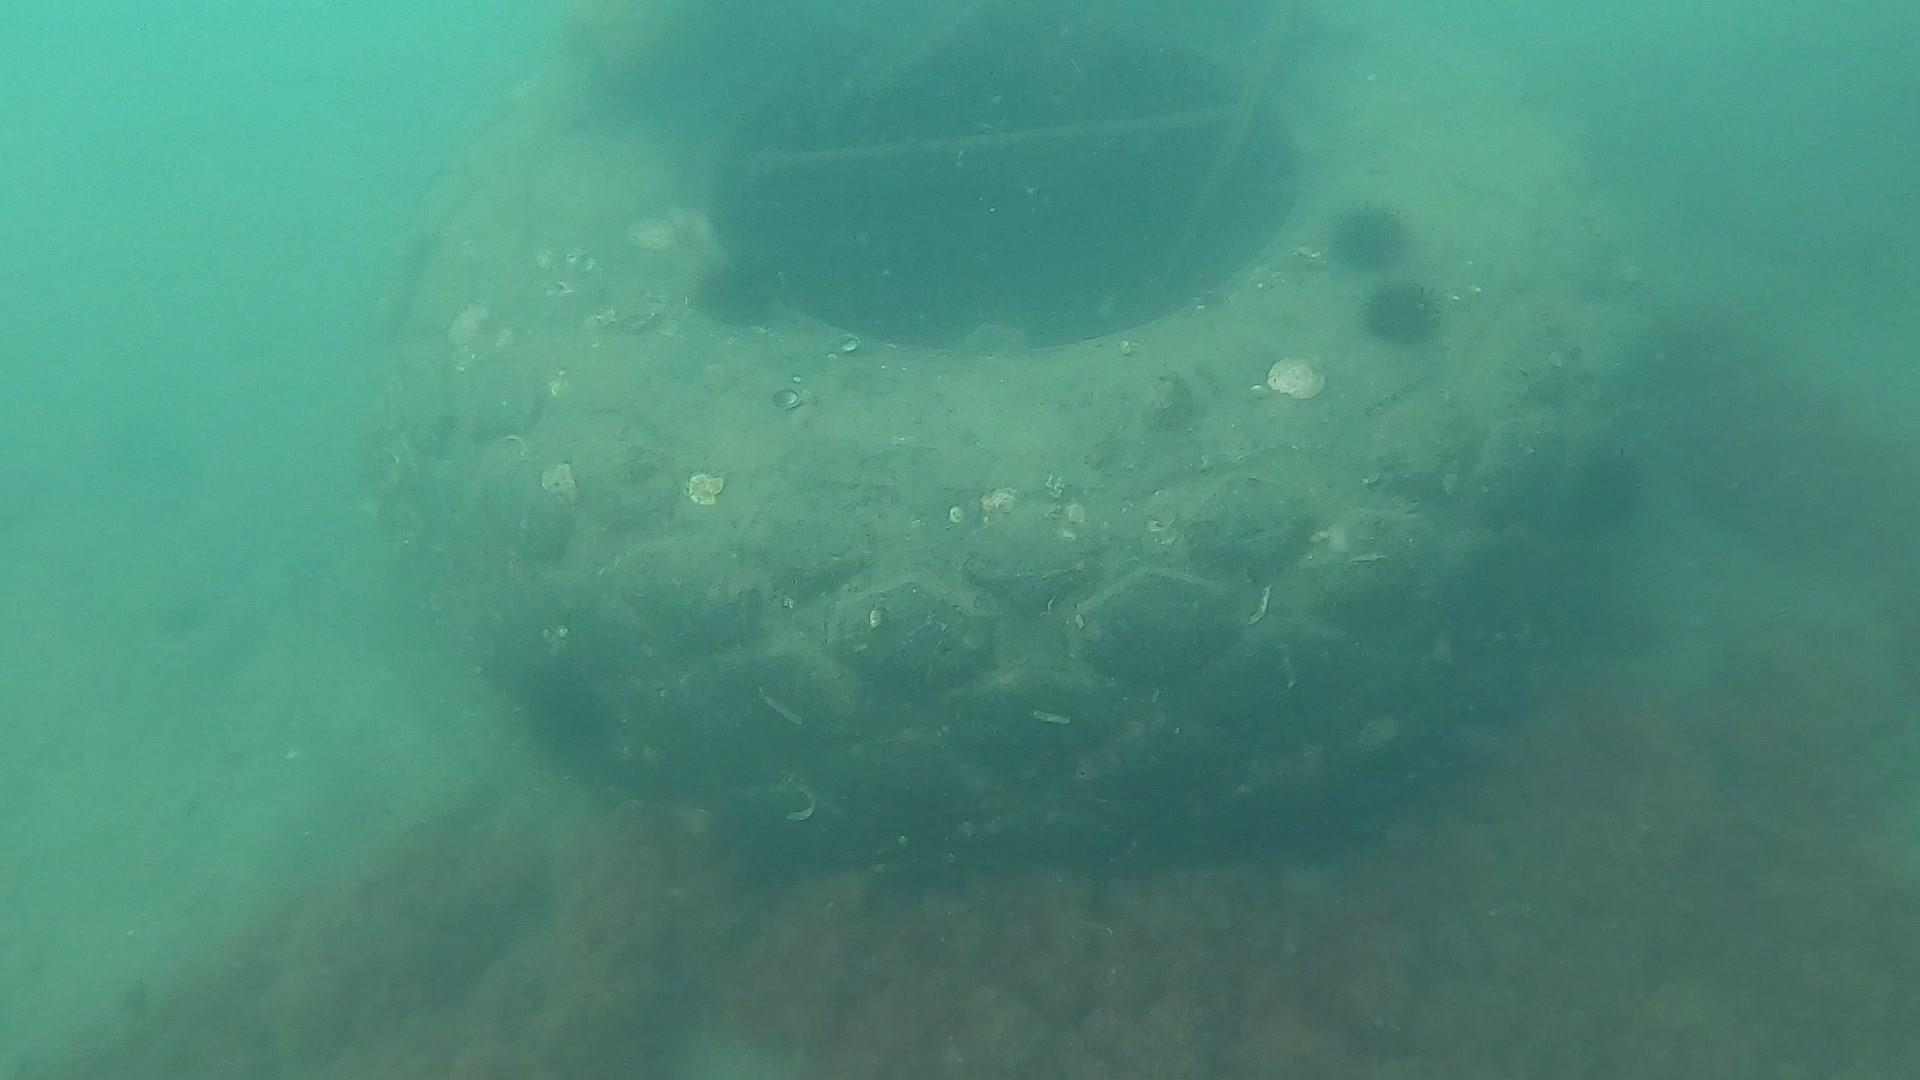tire: (357, 3, 1650, 866)
